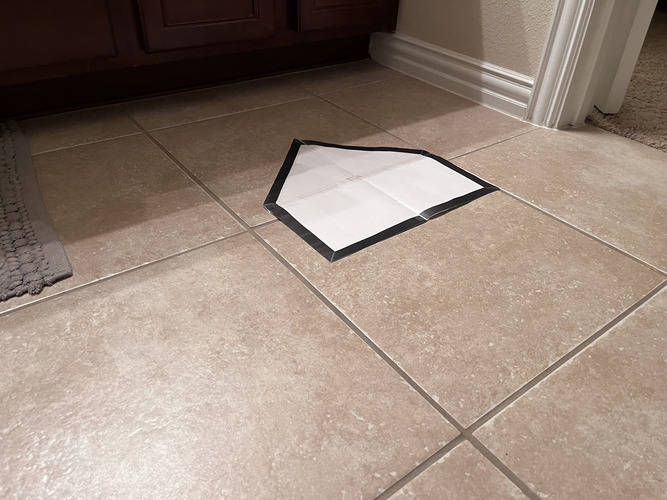homeplate: (264, 137, 499, 260)
